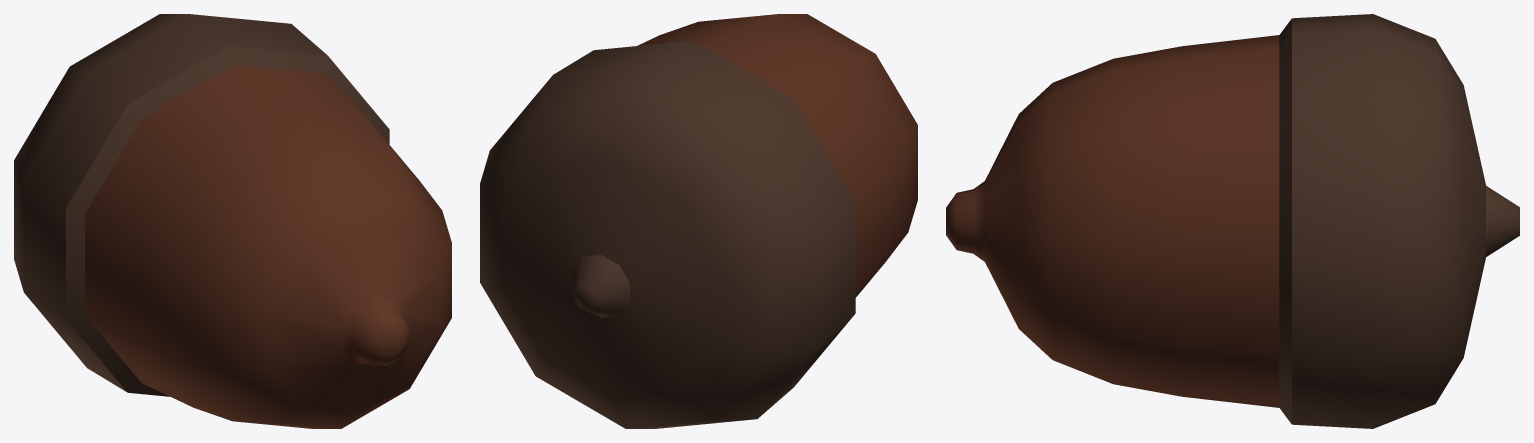
File: Acorn_01.fbx
3 renders of one model, left to right at view 1: azimuth 30°, elevation 25°; view 2: azimuth 150°, elevation 25°; view 3: azimuth 270°, elevation 25°, orthographic. The views are drawn at different scales.
Parts seen in each view (by area): view 1: Acorn_01; view 2: Acorn_01; view 3: Acorn_01.
Part boxes in pixels (x1,y1,x2,y2): Acorn_01: [14, 14, 451, 428]; Acorn_01: [480, 14, 917, 428]; Acorn_01: [946, 14, 1519, 428].
Bounding box in the file's own units: 0.0548 × 0.0576 × 0.0782.
